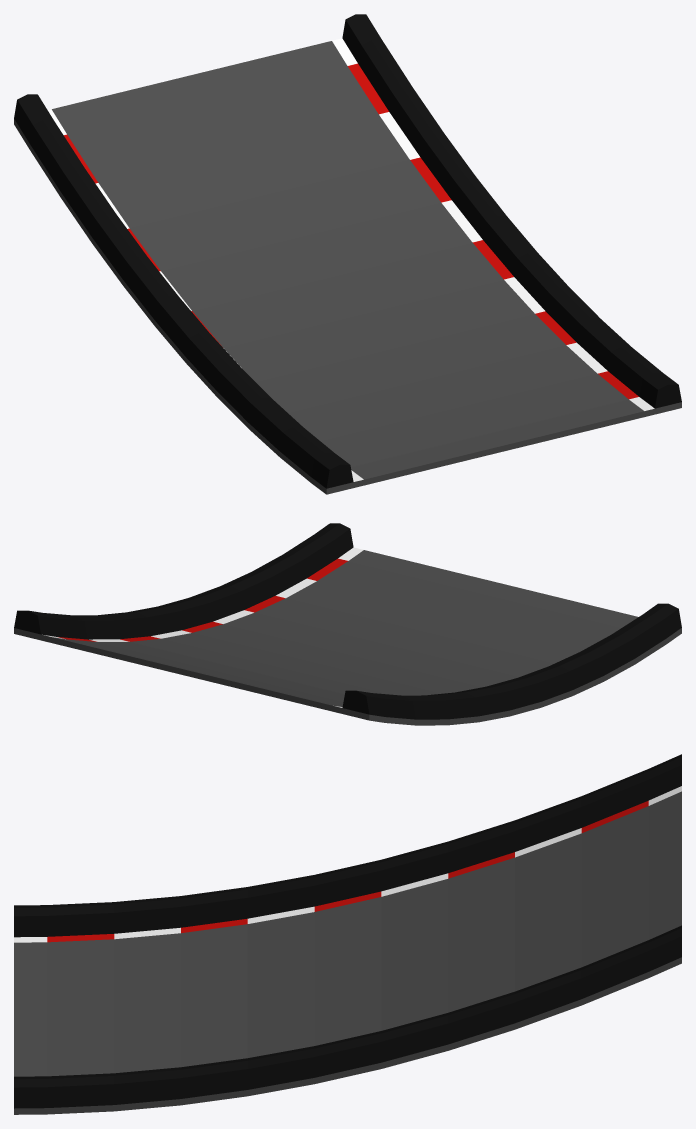
The model's file is slope_up.obj.
3 renders of one model, top to bottom at view 1: azimuth 30°, elevation 25°; view 2: azimuth 150°, elevation 25°; view 3: azimuth 270°, elevation 25°, orthographic. The views are drawn at different scales.
Parts seen in each view (by area): view 1: SlopeUp_Plane.014; view 2: SlopeUp_Plane.014; view 3: SlopeUp_Plane.014.
Part boxes in pixels (<box>): SlopeUp_Plane.014: <box>14,14,681,494</box>; SlopeUp_Plane.014: <box>14,523,681,725</box>; SlopeUp_Plane.014: <box>14,754,681,1114</box>.
Bounding box in the file's own units: 13.13 × 5.94 × 20.
